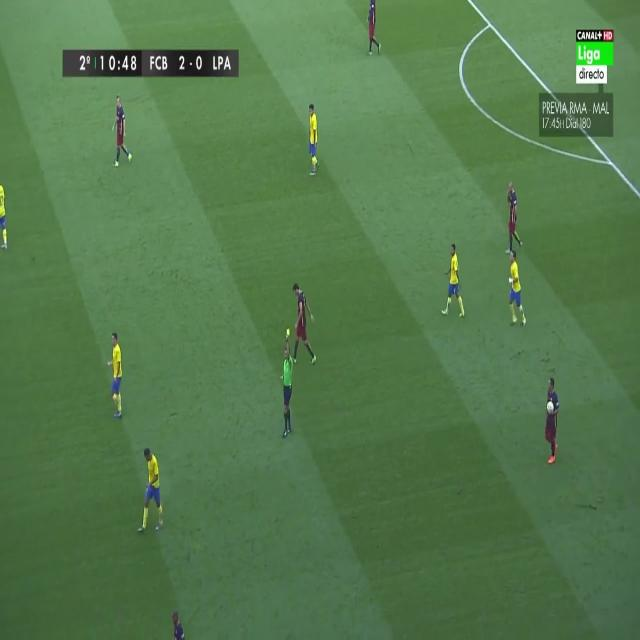Ball: (546, 397, 556, 416)
Player: (136, 441, 166, 539), (291, 280, 319, 369), (440, 239, 466, 323), (505, 249, 529, 330), (104, 331, 126, 418), (541, 378, 561, 467), (112, 92, 134, 168), (505, 180, 527, 256), (305, 100, 321, 182), (364, 0, 384, 60), (0, 179, 12, 255), (170, 609, 186, 640)
Referee: (278, 327, 294, 444)
